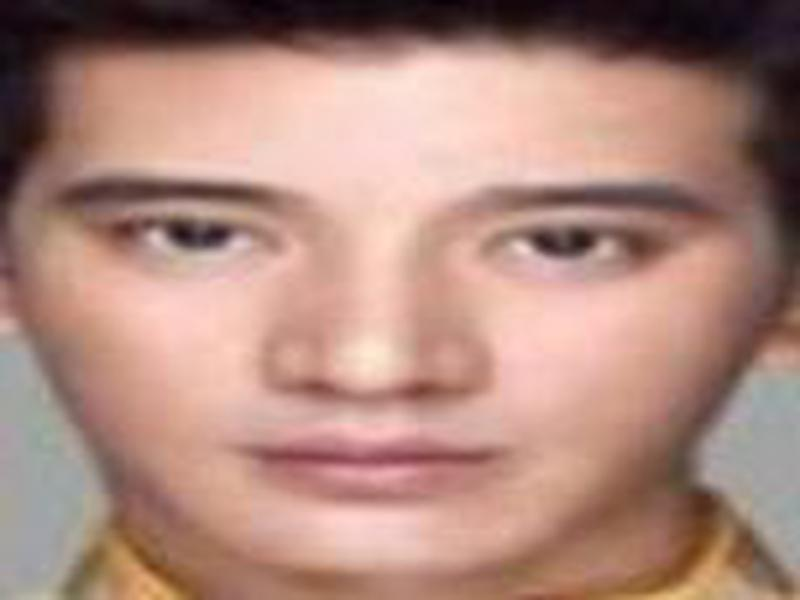without_mask: (34, 38, 763, 563)
